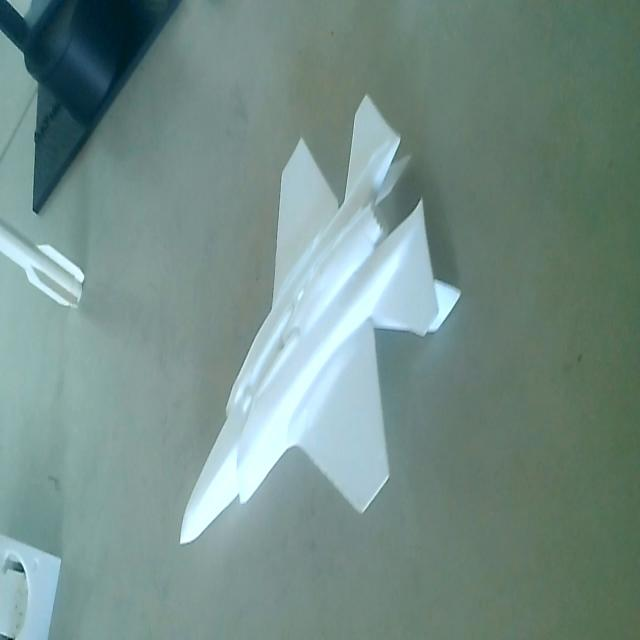Jet: (176, 88, 469, 554)
Rocket: (0, 212, 94, 314)
